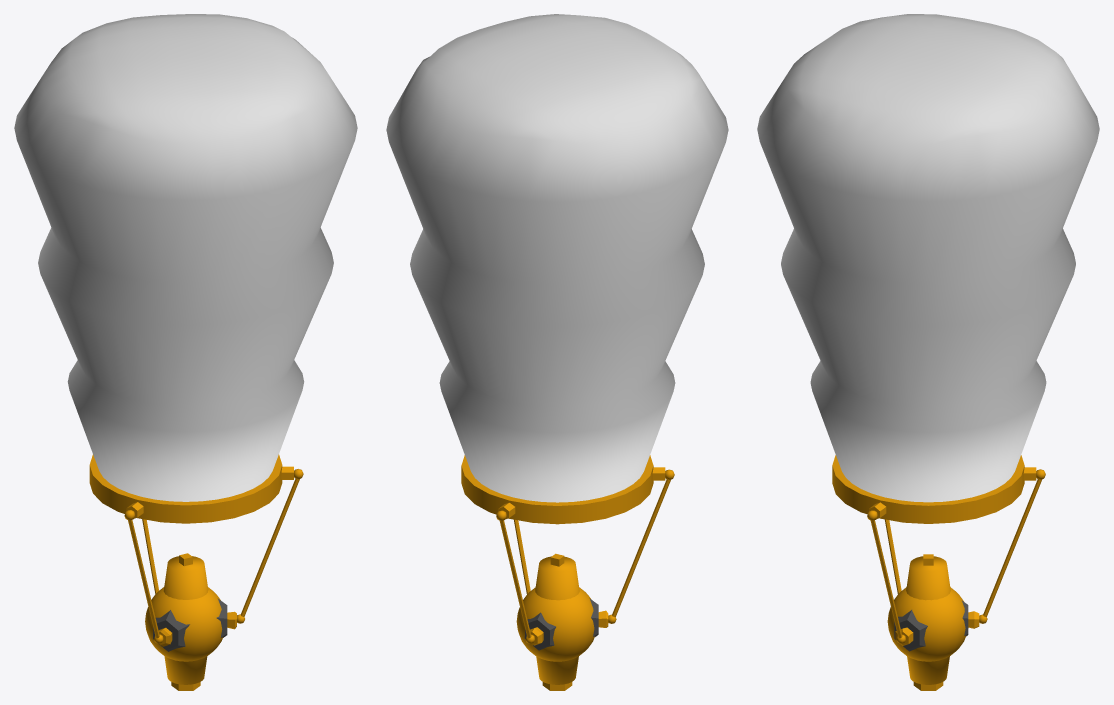
Rendered from lantern_fix_ultra.fbx.
3 views of the same model, side by side, from view 1: azimuth 30°, elevation 25°; view 2: azimuth 150°, elevation 25°; view 3: azimuth 270°, elevation 25° (orthographic).
Parts seen in each view (by area): view 1: Cylinder.003, Cube.002; view 2: Cylinder.003, Cube.002; view 3: Cylinder.003, Cube.002.
Boxes of the visible parts, bbox=[...] form: Cylinder.003: bbox=[14, 14, 357, 501]; Cube.002: bbox=[89, 454, 303, 690]; Cylinder.003: bbox=[386, 14, 728, 502]; Cube.002: bbox=[461, 455, 674, 690]; Cylinder.003: bbox=[757, 14, 1099, 502]; Cube.002: bbox=[832, 455, 1045, 690].
Bounding box in the file's own units: 134 × 275 × 134.
